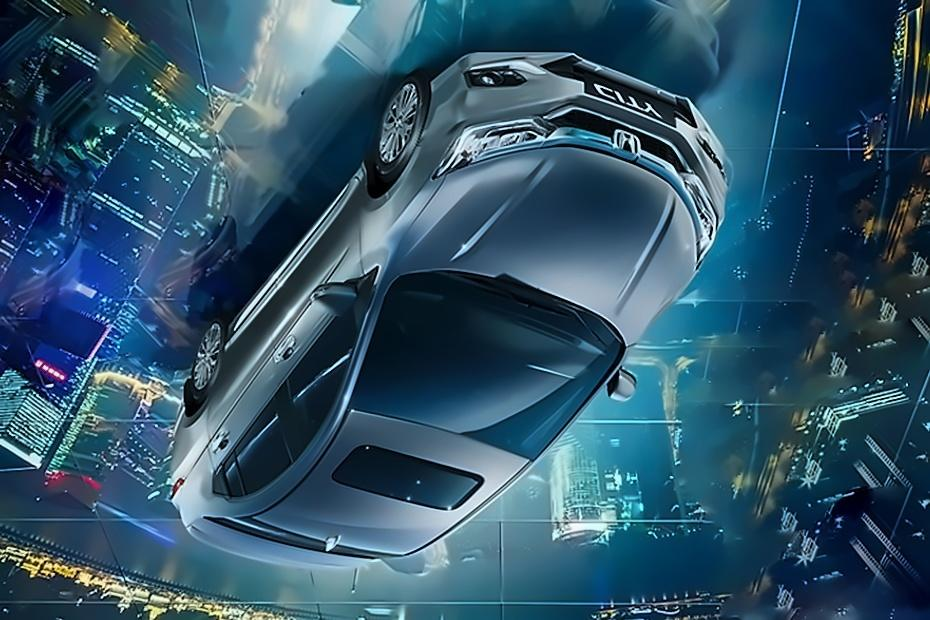Car hood: (389, 143, 702, 371)
Fender - -F-L-: (326, 97, 462, 328)
Fender - -R-L-: (169, 368, 217, 560)
Front bumper: (430, 47, 735, 222)
Headlight - -L-: (432, 110, 560, 184)
Headlight - -R-: (673, 166, 719, 270)
Passenger-s door - -F-L-: (262, 107, 377, 507)
Passenger-s door - -R-L-: (203, 239, 295, 559)
Side bumper - -L-: (210, 132, 377, 423)
Side mirror - -L-: (308, 274, 359, 327)
Side mirror - -R-: (606, 367, 639, 410)
